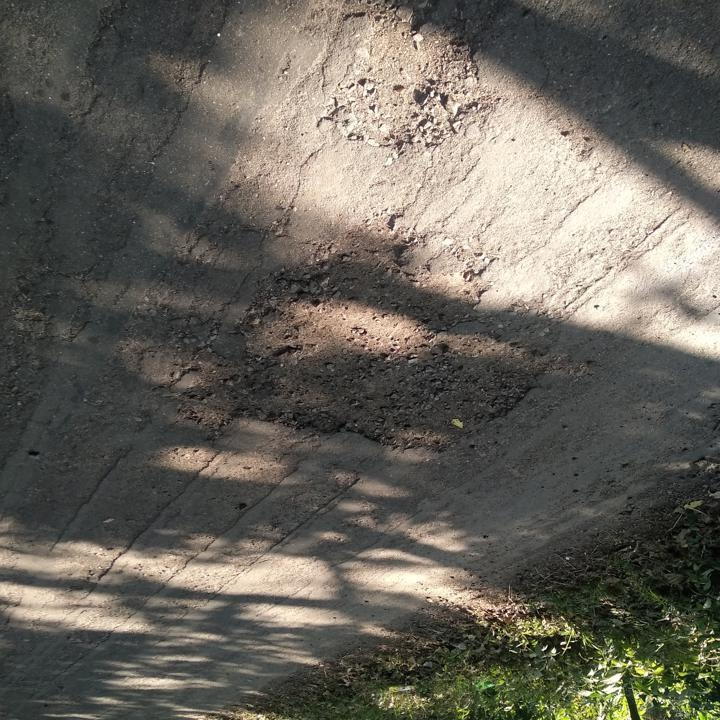pothole: (181, 216, 552, 451), (323, 0, 489, 151)
